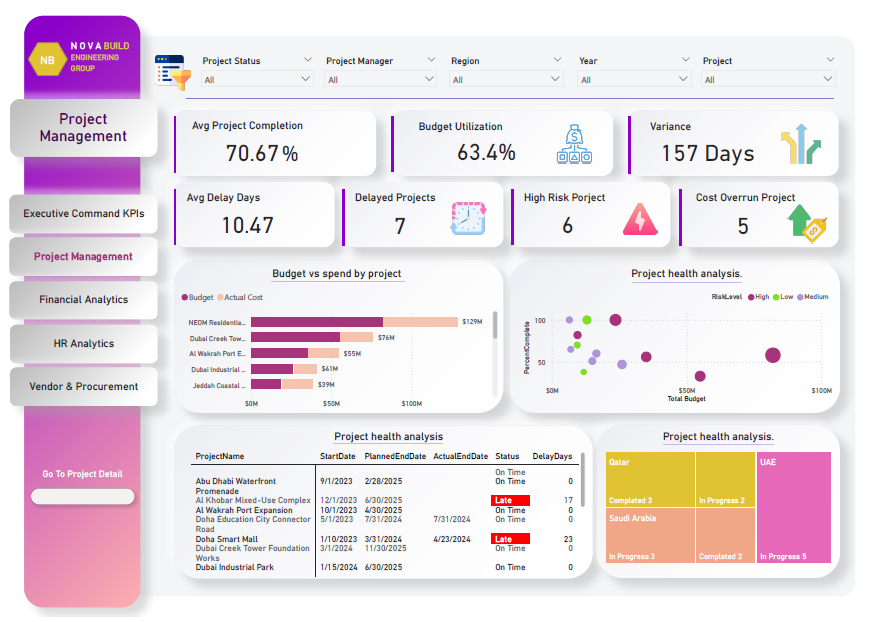

The dashboard page shown, as its layout file describes it:
{"tool":"powerbi","page":{"name":"Project Management","canvas":[1380,980],"ordinal":1},"visuals":[{"type":"shape","box":[63.9,68.1,61.9,51.5],"z":0,"group":"g1"},{"type":"cardVisual","fields":{"Data":["Measures Table.Average Project Completion %"]},"box":[287.8,174.3,255.4,102.7],"z":0},{"type":"textbox","box":[74.2,80.4,40.2,35.1],"z":1000,"group":"g1"},{"type":"cardVisual","fields":{"Data":["Measures Table.Delayed Projects"]},"box":[552.6,288.2,190.8,103.9],"z":1000},{"type":"textbox","box":[125.8,58.8,121.6,60.8],"z":2000,"group":"g1"},{"type":"cardVisual","fields":{"Data":["Measures Table.Average Delay Days"]},"box":[287.8,287.8,238.9,102.2],"z":2000},{"type":"cardVisual","fields":{"Data":["Measures Table.High Risk Projects"]},"box":[817.8,287.8,185.6,102.2],"z":3000},{"type":"cardVisual","fields":{"Data":["Measures Table.Cost Overrun Projects"]},"box":[1081.6,288.2,207.9,103.9],"z":4000},{"type":"cardVisual","fields":{"Data":["Measures Table.Budget Utilization %"]},"box":[629.5,173.9,306.8,102.3],"z":5000},{"type":"cardVisual","fields":{"Data":["Measures Table.Days Variance"]},"box":[1001.3,173.7,257.9,103.9],"z":6000},{"type":"tableEx","fields":{"Values":["DimProjects.ProjectName","DimProjects.StartDate","DimProjects.PlannedEndDate","DimProjects.ActualEndDate","Measures Table.Days Variance Status","DimProjects.DelayDays"]},"box":[316,705,628,200],"z":7000},{"type":"scatterChart","fields":{"X":["Measures Table.Total Budget"],"Size":["Measures Table.Total Actual Cost"],"Series":["DimProjects.RiskLevel"],"Y":["DimProjects.PercentComplete"]},"box":[836,448,494,189],"z":8000},{"type":"barChart","fields":{"Category":["DimProjects.ProjectName"],"Y":["Measures Table.Total Budget","Measures Table.Total Actual Cost"]},"box":[299,448,507,201],"z":9000},{"type":"treemap","fields":{"Group":["DimRegion.Region"],"Details":["DimProjects.ProjectStatus"],"Values":["Measures Table.Total Projects"]},"box":[964,704,366,187],"z":10000},{"type":"actionButton","title":"Go To Project Detail","box":[58,737,183,67],"z":11000},{"type":"textbox","box":[307.8,295.6,198.9,34.4],"z":12000},{"type":"textbox","box":[836.7,295.6,198.9,34.4],"z":13000},{"type":"textbox","box":[1106.7,295.6,198.9,34.4],"z":14000},{"type":"textbox","box":[316.2,182.4,198.6,35.1],"z":15000},{"type":"textbox","box":[572.2,295.6,197.8,34.4],"z":16000},{"type":"textbox","box":[671.6,183.8,198.6,33.8],"z":17000},{"type":"textbox","box":[1035.1,183.8,198.6,33.8],"z":18000},{"type":"textbox","box":[34.4,168.9,232.8,82],"z":19000},{"type":"pageNavigator","box":[35.9,305.4,231.5,331.5],"z":20000},{"type":"textbox","box":[848.1,415.2,498.7,32.9],"z":21000},{"type":"shape","box":[1012,418.1,172.3,53],"z":22000},{"type":"textbox","box":[299,415,499,33],"z":23000},{"type":"shape","box":[446,417,208,53],"z":24000},{"type":"textbox","box":[964,671,366,33],"z":25000},{"type":"shape","box":[1061,672,172,53],"z":26000},{"type":"textbox","box":[316,671,628,33],"z":27000},{"type":"shape","box":[543,671,172,53],"z":28000},{"type":"shape","box":[321,704,607,53],"z":29000},{"type":"shape","box":[502,731,25,174],"z":30000},{"type":"textbox","box":[456.5,217.4,126.1,55.1],"z":31000},{"type":"group","id":"g1","title":"Group 3","box":[63.9,58.8,183.5,60.8],"z":32000},{"type":"slicer","fields":{"Values":["DimDate.Year"]},"box":[916,83,198.9,59.1],"z":33000},{"type":"slicer","fields":{"Values":["DimRegion.Region"]},"box":[714.9,83,198.9,59.1],"z":34000},{"type":"slicer","fields":{"Values":["DimProjects.ProjectName"]},"box":[1110.4,83,231.8,59.1],"z":35000},{"type":"image","box":[256.8,83,68.2,64.8],"z":36000},{"type":"shape","box":[311.7,140,1016.7,30],"z":37000},{"type":"slicer","fields":{"Values":["DimProjects.ProjectStatus"]},"box":[325.1,83,196.6,59.1],"z":38000},{"type":"slicer","fields":{"Values":["DimProjects.ProjectManagerName"]},"box":[519.1,83,196.8,59.6],"z":39000},{"type":"image","box":[710.5,309.2,86.8,71.1],"z":40000},{"type":"image","box":[986.8,313.2,73.7,63.2],"z":41000},{"type":"image","box":[1243.4,317.1,85.5,71.1],"z":42000},{"type":"image","box":[878.9,190.8,85.5,71.1],"z":43000},{"type":"image","box":[1234.2,190.8,85.5,71.1],"z":44000}]}

Visuals, with their boxes in screenshot pixels (x1, y1, x2, y2), scaled from the page's 1380x980 canvas onto the 869x622 screenshot:
shape: {"left": 40, "top": 43, "right": 79, "bottom": 76}
cardVisual - Measures Table.Average Project Completion %: {"left": 181, "top": 111, "right": 342, "bottom": 176}
textbox: {"left": 47, "top": 51, "right": 72, "bottom": 73}
cardVisual - Measures Table.Delayed Projects: {"left": 348, "top": 183, "right": 468, "bottom": 249}
textbox: {"left": 79, "top": 37, "right": 156, "bottom": 76}
cardVisual - Measures Table.Average Delay Days: {"left": 181, "top": 183, "right": 332, "bottom": 248}
cardVisual - Measures Table.High Risk Projects: {"left": 515, "top": 183, "right": 632, "bottom": 248}
cardVisual - Measures Table.Cost Overrun Projects: {"left": 681, "top": 183, "right": 812, "bottom": 249}
cardVisual - Measures Table.Budget Utilization %: {"left": 396, "top": 110, "right": 590, "bottom": 175}
cardVisual - Measures Table.Days Variance: {"left": 631, "top": 110, "right": 793, "bottom": 176}
tableEx - DimProjects.ProjectName x DimProjects.StartDate: {"left": 199, "top": 447, "right": 594, "bottom": 574}
scatterChart - Measures Table.Total Budget x Measures Table.Total Actual Cost: {"left": 526, "top": 284, "right": 838, "bottom": 404}
barChart - DimProjects.ProjectName x Measures Table.Total Budget: {"left": 188, "top": 284, "right": 508, "bottom": 412}
treemap - DimRegion.Region x DimProjects.ProjectStatus: {"left": 607, "top": 447, "right": 838, "bottom": 566}
"Go To Project Detail" actionButton: {"left": 37, "top": 468, "right": 152, "bottom": 510}
textbox: {"left": 194, "top": 188, "right": 319, "bottom": 209}
textbox: {"left": 527, "top": 188, "right": 652, "bottom": 209}
textbox: {"left": 697, "top": 188, "right": 822, "bottom": 209}
textbox: {"left": 199, "top": 116, "right": 324, "bottom": 138}
textbox: {"left": 360, "top": 188, "right": 485, "bottom": 209}
textbox: {"left": 423, "top": 117, "right": 548, "bottom": 138}
textbox: {"left": 652, "top": 117, "right": 777, "bottom": 138}
textbox: {"left": 22, "top": 107, "right": 168, "bottom": 159}
pageNavigator: {"left": 23, "top": 194, "right": 168, "bottom": 404}
textbox: {"left": 534, "top": 264, "right": 848, "bottom": 284}
shape: {"left": 637, "top": 265, "right": 746, "bottom": 299}
textbox: {"left": 188, "top": 263, "right": 503, "bottom": 284}
shape: {"left": 281, "top": 265, "right": 412, "bottom": 298}
textbox: {"left": 607, "top": 426, "right": 838, "bottom": 447}
shape: {"left": 668, "top": 427, "right": 776, "bottom": 460}
textbox: {"left": 199, "top": 426, "right": 594, "bottom": 447}
shape: {"left": 342, "top": 426, "right": 450, "bottom": 460}
shape: {"left": 202, "top": 447, "right": 584, "bottom": 480}
shape: {"left": 316, "top": 464, "right": 332, "bottom": 574}
textbox: {"left": 287, "top": 138, "right": 367, "bottom": 173}
"Group 3" group: {"left": 40, "top": 37, "right": 156, "bottom": 76}
slicer - DimDate.Year: {"left": 577, "top": 53, "right": 702, "bottom": 90}
slicer - DimRegion.Region: {"left": 450, "top": 53, "right": 575, "bottom": 90}
slicer - DimProjects.ProjectName: {"left": 699, "top": 53, "right": 845, "bottom": 90}
image: {"left": 162, "top": 53, "right": 205, "bottom": 94}
shape: {"left": 196, "top": 89, "right": 837, "bottom": 108}
slicer - DimProjects.ProjectStatus: {"left": 205, "top": 53, "right": 329, "bottom": 90}
slicer - DimProjects.ProjectManagerName: {"left": 327, "top": 53, "right": 451, "bottom": 91}
image: {"left": 447, "top": 196, "right": 502, "bottom": 241}
image: {"left": 621, "top": 199, "right": 668, "bottom": 239}
image: {"left": 783, "top": 201, "right": 837, "bottom": 246}
image: {"left": 553, "top": 121, "right": 607, "bottom": 166}
image: {"left": 777, "top": 121, "right": 831, "bottom": 166}
